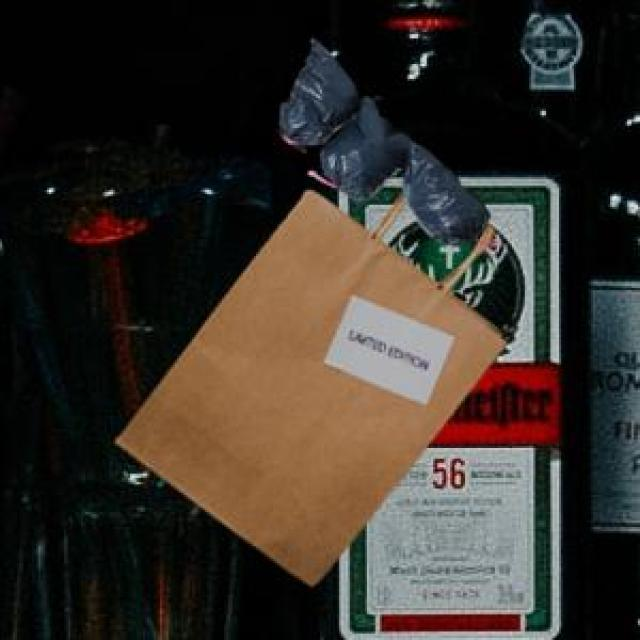miscellaneous trash: (275, 34, 486, 241)
paper: (111, 186, 501, 580)
